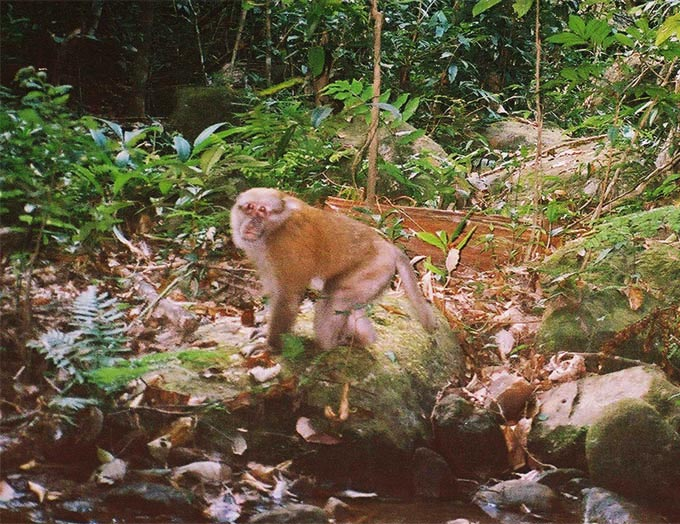monkey: (217, 179, 457, 377)
